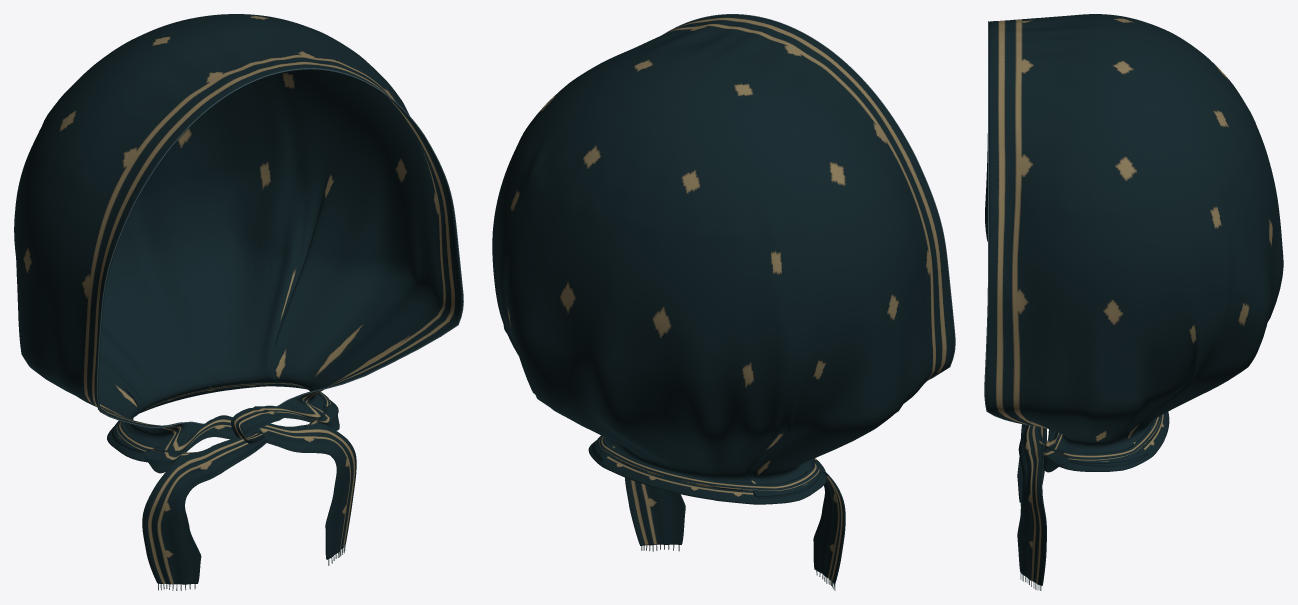
The model's file is Masculine-tank-pashmina243-headgear.glb.
3 views of the same model, side by side, from view 1: azimuth 30°, elevation 25°; view 2: azimuth 150°, elevation 25°; view 3: azimuth 270°, elevation 25° (orthographic). The views are drawn at different scales.
Visible parts, largest first — view 1: 226 headgear / Headwear / continuous woven pashmina239, 226 headgear / Headwear / face edge239; view 2: 226 headgear / Headwear / continuous woven pashmina239, 226 headgear / Headwear / face edge239; view 3: 226 headgear / Headwear / continuous woven pashmina239, 226 headgear / Headwear / face edge239.
Part boxes in pixels (x1,y1,x2,y2): 226 headgear / Headwear / continuous woven pashmina239: (14,14,462,584); 226 headgear / Headwear / face edge239: (96,68,463,428); 226 headgear / Headwear / continuous woven pashmina239: (492,14,954,584); 226 headgear / Headwear / face edge239: (663,14,955,380); 226 headgear / Headwear / continuous woven pashmina239: (985,14,1283,585); 226 headgear / Headwear / face edge239: (984,21,1033,425).
Bounding box in the file's own units: 1.03 × 1.35 × 0.7127.
3 materials, 1 textured.
